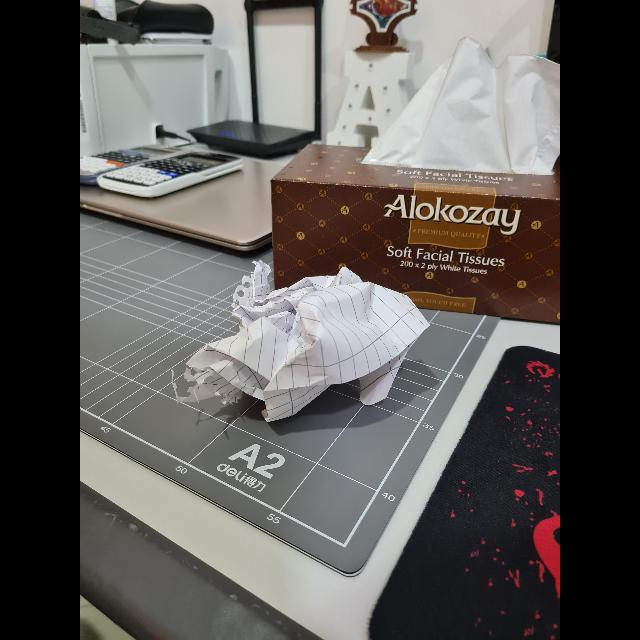trash: (180, 264, 426, 426)
